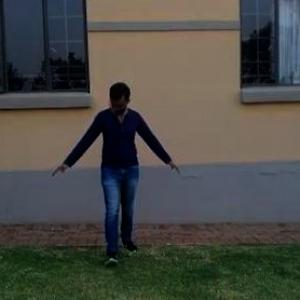land: (51, 60, 195, 276)
